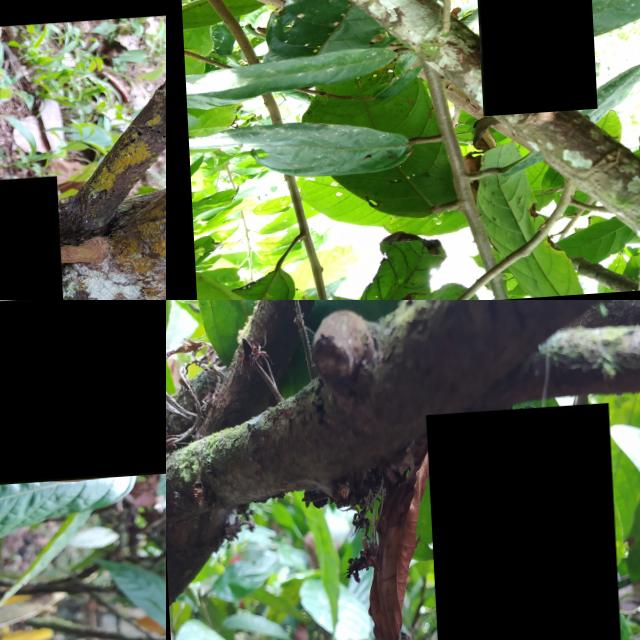Fitoftora: (424, 409, 627, 640), (0, 300, 166, 487), (470, 0, 592, 120)
Monilia: (0, 0, 166, 33)
